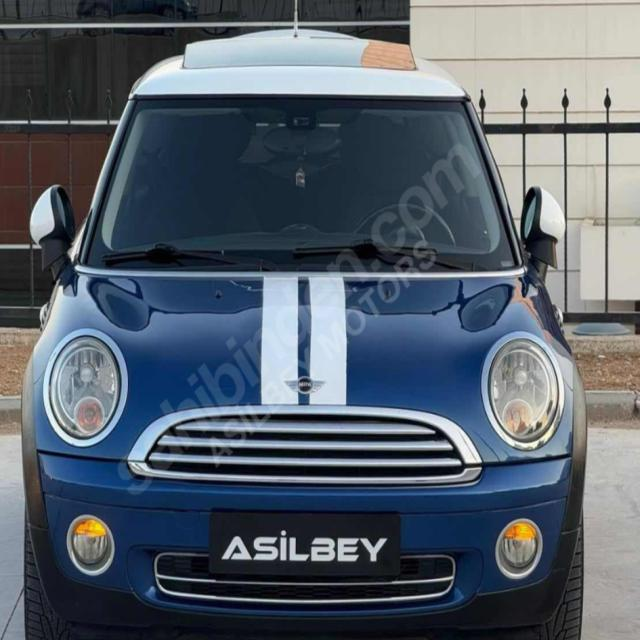mini: (282, 368, 327, 399)
